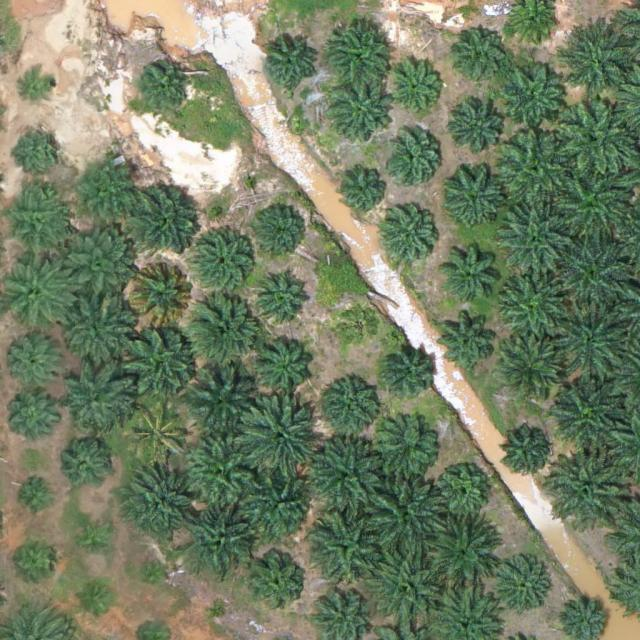Dead: (337, 302, 384, 350)
Grass: (122, 397, 193, 468)
Healthy: (559, 99, 637, 178), (555, 163, 633, 242), (556, 234, 634, 313), (553, 301, 631, 380), (546, 450, 624, 529), (498, 129, 576, 208), (126, 179, 204, 258), (122, 326, 200, 405), (61, 292, 139, 371), (59, 359, 137, 438), (186, 289, 264, 368), (183, 434, 261, 513), (125, 463, 203, 542), (238, 398, 316, 477), (244, 472, 322, 551), (304, 438, 382, 517), (305, 510, 383, 589), (367, 474, 445, 553), (368, 547, 446, 626), (427, 510, 505, 589), (179, 500, 257, 579), (56, 229, 134, 307), (185, 362, 263, 440), (563, 21, 640, 100), (549, 377, 620, 448), (72, 156, 142, 227), (190, 229, 260, 300), (370, 418, 441, 488), (3, 189, 73, 259), (497, 332, 567, 402), (499, 265, 569, 335), (499, 202, 569, 272), (7, 329, 70, 392), (504, 66, 567, 129), (439, 241, 502, 304), (317, 379, 380, 442), (442, 167, 505, 229), (439, 308, 501, 371), (331, 81, 393, 144), (329, 23, 391, 86), (253, 332, 315, 395), (246, 552, 308, 615), (490, 553, 553, 615), (6, 388, 61, 443), (456, 29, 511, 84), (389, 63, 444, 118), (387, 134, 442, 189), (382, 211, 437, 266), (263, 38, 318, 93), (381, 342, 435, 398), (452, 103, 506, 158), (56, 438, 110, 493), (258, 269, 312, 324), (255, 204, 309, 259), (503, 429, 550, 476)
Small: (137, 64, 192, 119), (436, 465, 491, 520), (337, 163, 391, 218), (17, 125, 64, 173), (11, 539, 58, 586), (21, 68, 60, 108), (17, 474, 56, 514), (75, 522, 114, 562), (78, 582, 117, 621), (137, 558, 168, 589), (208, 596, 231, 620)
Yellow: (127, 260, 197, 330)
